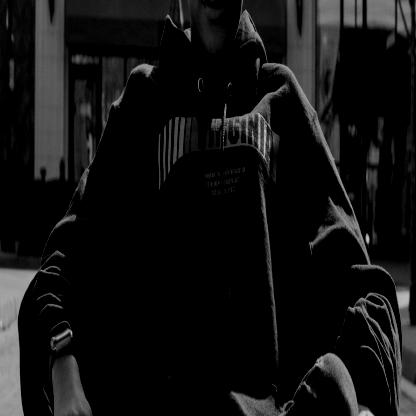dress: (24, 3, 406, 416)
